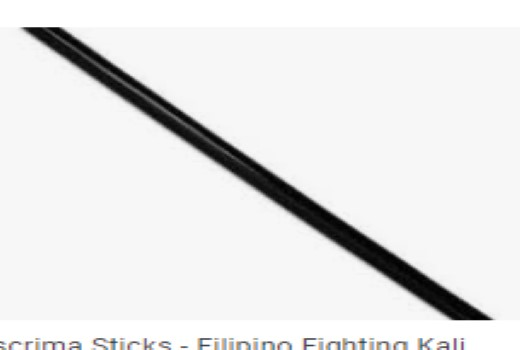baston_e: (28, 34, 491, 314)
baston_v: (12, 18, 73, 42), (437, 309, 502, 329)
